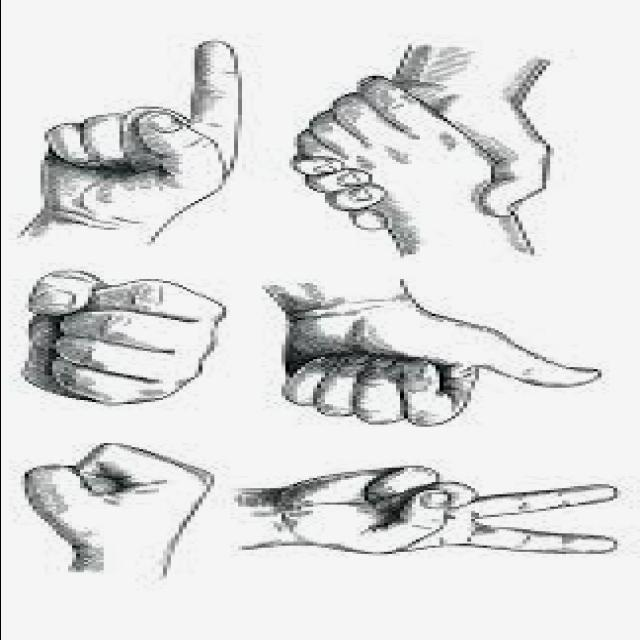Hand: (28, 37, 252, 218), (275, 308, 607, 428), (232, 464, 624, 560), (328, 92, 558, 230), (21, 267, 234, 408), (294, 73, 500, 218), (20, 441, 220, 586)
